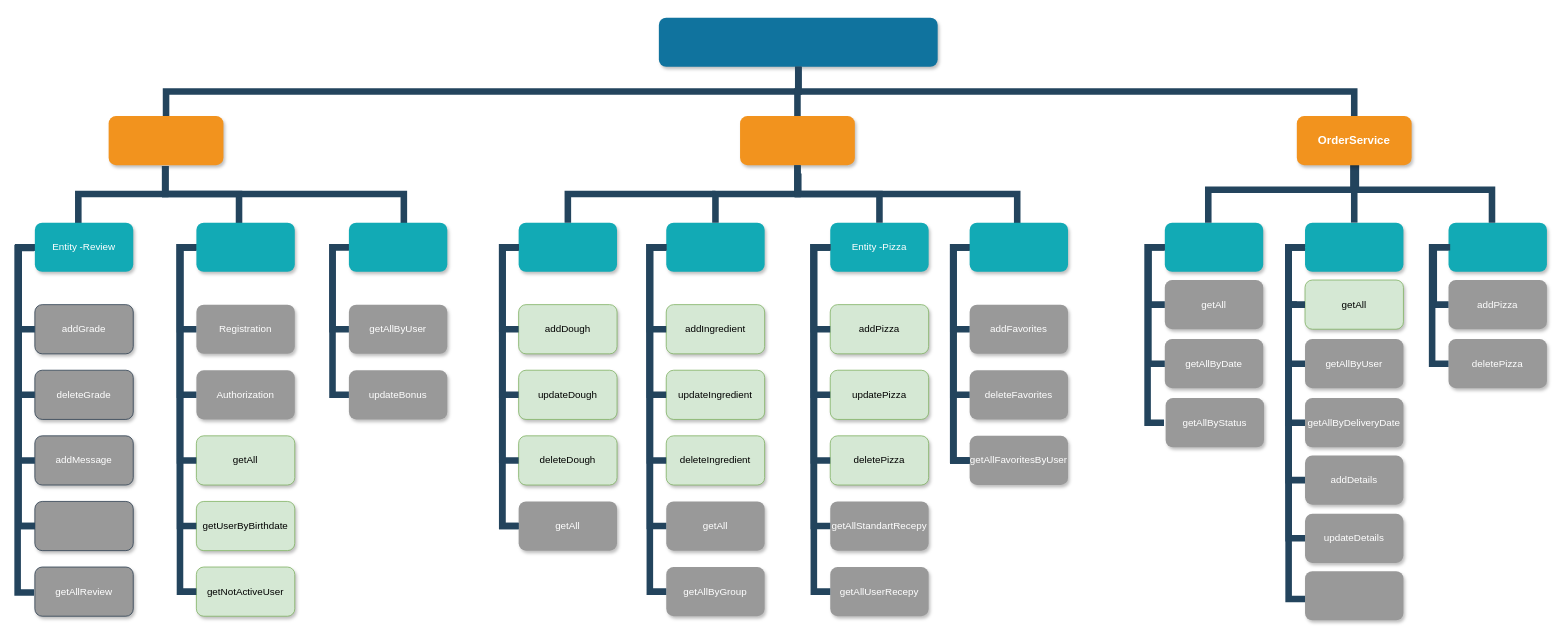
Some shapes in this 1565 by 640 pixel diagram are drawn without their labels. The shapes that lost their labels are listed below. From the top down, each one's centre as x and y in pixels, then its label:
At [798,43]: "App".
At [166,141]: "UserService".
At [797,141]: "ProductService".
At [246,248]: "Entity -UserApp".
At [398,248]: "Entity -Bonus".
At [568,248]: "Entity -Dough".
At [716,248]: "Entity -Ingredient".
At [1019,248]: "Entity -Favorites".
At [1214,248]: "Order".
At [1354,248]: "OrderDetails".
At [1498,248]: "Basket".
At [84,526]: "deleteMessage".
At [1354,596]: "deleteDetails".
